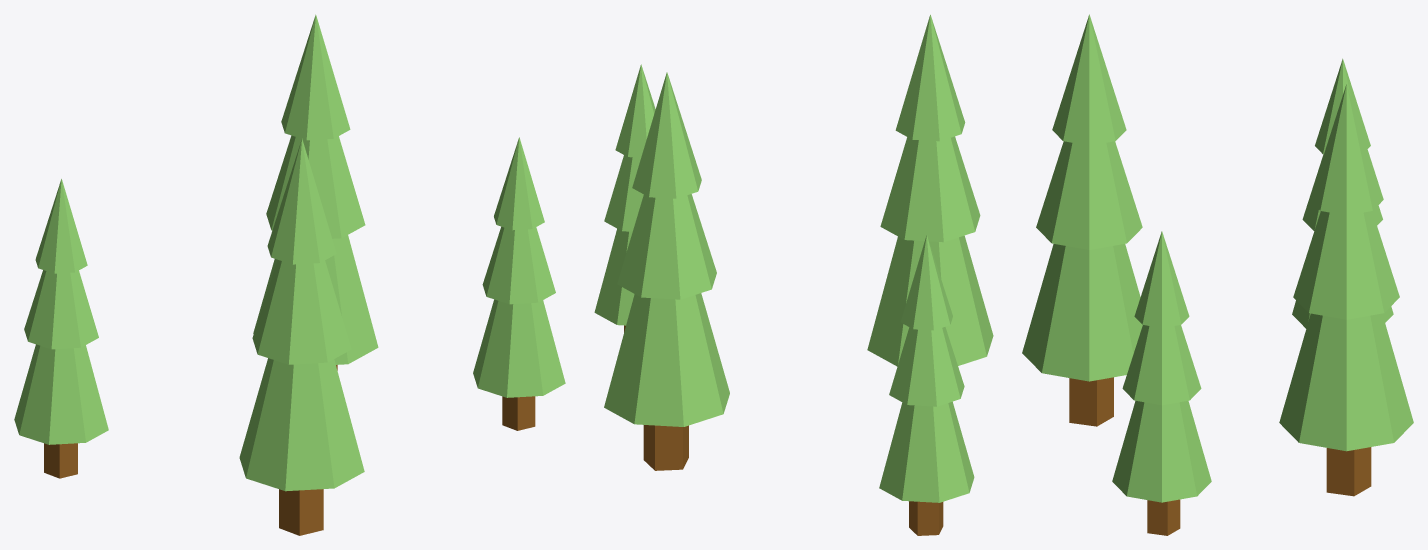
Rendered from arvores.fbx.
3 renders of one model, left to right at view 1: azimuth 30°, elevation 25°; view 2: azimuth 150°, elevation 25°; view 3: azimuth 270°, elevation 25°, orthographic. The views are drawn at different scales.
Visible parts, largest first — view 1: Cylinder.001; view 2: Cylinder.001; view 3: Cylinder.001.
Part boxes in pixels (bbox=[...]): Cylinder.001: bbox=[14, 14, 565, 535]; Cylinder.001: bbox=[594, 14, 993, 535]; Cylinder.001: bbox=[1022, 14, 1413, 535].
Bounding box in the file's own units: 810 × 669 × 582.
